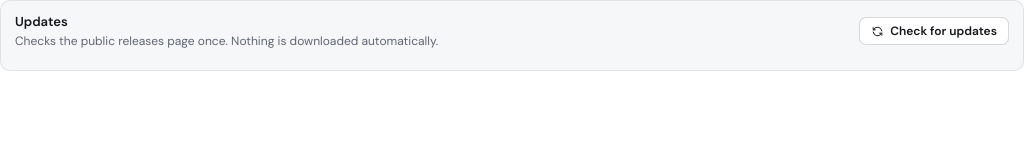
Test case: UpdateCheck › reports that the running version is current
The width and height of the screenshot is (1024, 160).
Click the button "Check for updates": [934, 32] box [859,18,1009,46]
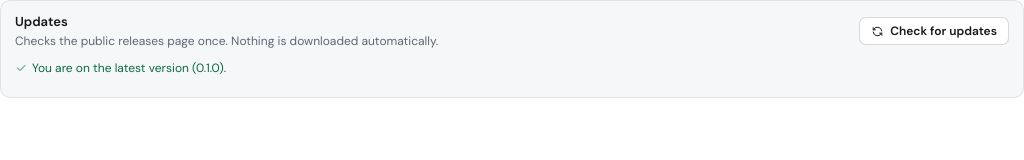
Now the text "You are on the latest version (0.1.0)." is shown, box [15,60,226,76]
